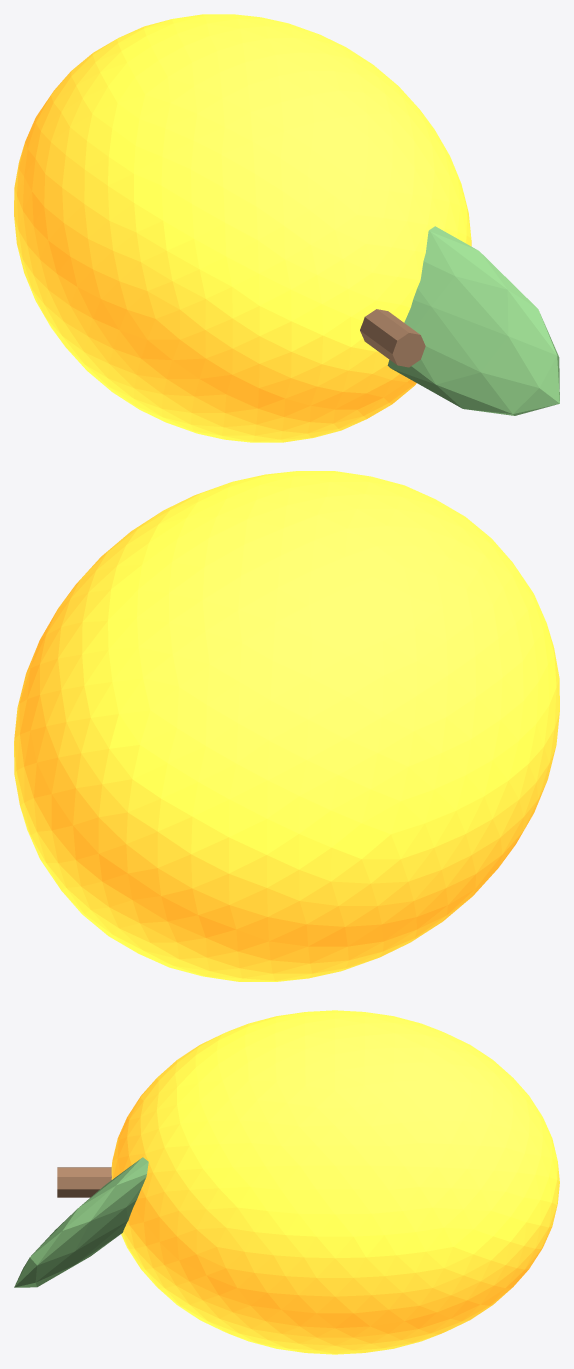
The model's file is mango-4179.glb.
3 renders of one model, top to bottom at view 1: azimuth 30°, elevation 25°; view 2: azimuth 150°, elevation 25°; view 3: azimuth 270°, elevation 25°, orthographic. The views are drawn at different scales.
Parts seen in each view (by area): view 1: mango, leaf, stem; view 2: mango; view 3: mango, leaf, stem.
Boxes of the visible parts, left/top/right/bottom form: mango: left=14, top=14, right=471, bottom=442; leaf: left=387, top=226, right=559, bottom=415; stem: left=360, top=309, right=425, bottom=367; mango: left=14, top=471, right=559, bottom=981; mango: left=111, top=1010, right=559, bottom=1354; leaf: left=14, top=1157, right=148, bottom=1287; stem: left=57, top=1167, right=111, bottom=1197.
Bounding box in the file's own units: 1.77 × 1.69 × 2.7.
